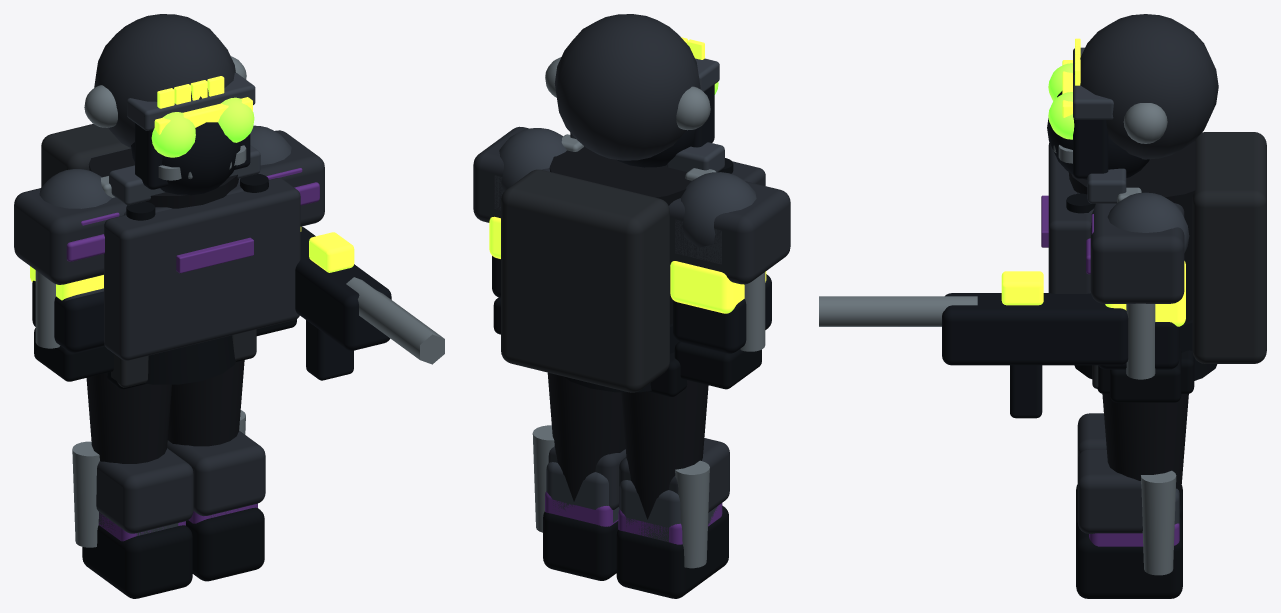
The model's file is sentinel_l04.glb.
The picture shows the model from 3 angles, left to right: view 1: azimuth 30°, elevation 25°; view 2: azimuth 150°, elevation 25°; view 3: azimuth 270°, elevation 25°; orthographic projection. The views are drawn at different scales.
Parts seen in each view (by area): view 1: tactical_chest_plate, shaped_knee_guard (×2), trouser (×2), boot (×2), rounded_helmet, broad_shoulder_guard (×2), heavy_carbine, enclosed_mask, heavy_barrel, shoulder_joint (×2), waist_flex, field_pack (+19 smaller); view 2: field_pack, rounded_helmet, trouser (×2), boot (×2), broad_shoulder_guard (×2), shoulder_joint (×2), shin_frame (×2), knee_plate (×2), body, forearm_guard, rank_stripe (×2), shaped_knee_guard (×2) (+12 smaller); view 3: field_pack, rounded_helmet, heavy_carbine, broad_shoulder_guard, trouser, shaped_knee_guard (×2), boot, tactical_chest_plate, heavy_barrel, body, shin_frame, shoulder_joint (+15 smaller).
Boxes of the visible parts, left/top/right/bottom form: tactical_chest_plate: left=104, top=178, right=300, bottom=360; shaped_knee_guard (×2): left=96, top=430, right=265, bottom=533; trouser (×2): left=86, top=360, right=244, bottom=463; boot (×2): left=82, top=507, right=264, bottom=598; rounded_helmet: left=94, top=14, right=235, bottom=148; broad_shoulder_guard (×2): left=14, top=130, right=324, bottom=284; heavy_carbine: left=295, top=226, right=391, bottom=350; enclosed_mask: left=131, top=122, right=240, bottom=195; heavy_barrel: left=346, top=277, right=444, bottom=364; shoulder_joint (×2): left=39, top=125, right=291, bottom=208; waist_flex: left=144, top=335, right=235, bottom=384; field_pack: left=41, top=124, right=130, bottom=186; field_pack: left=501, top=169, right=669, bottom=392; rounded_helmet: left=554, top=14, right=700, bottom=160; trouser (×2): left=547, top=372, right=708, bottom=519; boot (×2): left=543, top=505, right=728, bottom=598; broad_shoulder_guard (×2): left=473, top=126, right=790, bottom=284; shoulder_joint (×2): left=499, top=128, right=756, bottom=247; shin_frame (×2): left=532, top=425, right=709, bottom=568; knee_plate (×2): left=546, top=462, right=718, bottom=542; body: left=549, top=147, right=691, bottom=324; forearm_guard: left=673, top=274, right=771, bottom=353; rank_stripe (×2): left=489, top=216, right=766, bottom=313; shaped_knee_guard (×2): left=548, top=438, right=729, bottom=512; field_pack: left=1192, top=132, right=1266, bottom=363; rounded_helmet: left=1074, top=14, right=1218, bottom=159; heavy_carbine: left=942, top=293, right=1128, bottom=365; broad_shoulder_guard: left=1090, top=203, right=1184, bottom=303; trouser: left=1102, top=394, right=1188, bottom=508; shaped_knee_guard (×2): left=1077, top=413, right=1142, bottom=533; boot: left=1076, top=517, right=1182, bottom=598; tactical_chest_plate: left=1048, top=142, right=1091, bottom=293; heavy_barrel: left=819, top=296, right=977, bottom=326; body: left=1068, top=141, right=1195, bottom=322; shin_frame: left=1141, top=470, right=1176, bottom=575; shoulder_joint: left=1107, top=192, right=1189, bottom=253.
Size of the model in its own units: 0.99 by 1.87 by 1.39.
